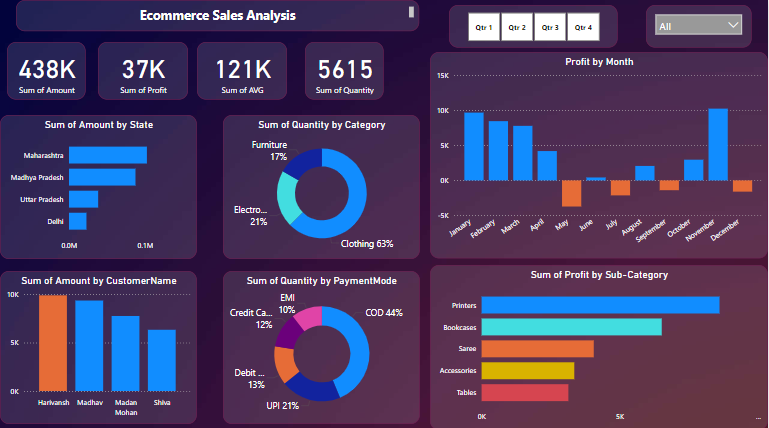

The dashboard page shown, as its layout file describes it:
{"tool":"powerbi","page":{"name":"Page 1","canvas":[1280,720],"ordinal":0},"visuals":[{"type":"textbox","box":[26.9,0,671.9,52.1],"z":0},{"type":"columnChart","title":"Profit by Month","fields":{"Category":["Orders.Order Date.Variation.Date Hierarchy.Month"],"Y":["Details.Profit"]},"box":[717.3,87.3,562.7,344.4],"z":1000},{"type":"barChart","fields":{"Category":["Details.Sub-Category"],"Y":["Details.Profit"]},"box":[717.3,441.8,562.7,275.5],"z":2000},{"type":"donutChart","fields":{"Category":["Details.Category"],"Y":["Details.Quantity"]},"box":[371.2,191.5,327.6,240.2],"z":3000},{"type":"donutChart","fields":{"Category":["Details.PaymentMode"],"Y":["Details.Quantity"]},"box":[371.2,451.9,327.6,255.3],"z":4000},{"type":"card","fields":{"Values":["Details.Amount"]},"box":[11.8,70.6,131,95.7],"z":5000},{"type":"card","fields":{"Values":["Details.Quantity"]},"box":[509,70.6,131,95.7],"z":6000},{"type":"card","fields":{"Values":["Details.Profit"]},"box":[162.9,70.6,149.5,95.7],"z":7000},{"type":"card","fields":{"Values":["Details.AVG"]},"box":[327.6,70.6,149.5,95.7],"z":8000},{"type":"barChart","fields":{"Category":["Orders.State"],"Y":["Details.Amount"]},"box":[0,191,328,240],"z":9000},{"type":"columnChart","fields":{"Category":["Orders.CustomerName"],"Y":["Details.Amount"]},"box":[0,452,328,255],"z":10000},{"type":"slicer","fields":{"Values":["Orders.Order Date.Variation.Date Hierarchy.Quarter"]},"box":[747.5,8.4,280.5,70.6],"z":10001},{"type":"slicer","fields":{"Values":["Orders.State"]},"box":[1076.7,8.4,176.4,70.6],"z":10002}]}

Visuals, with their boxes in screenshot pixels (x1, y1, x2, y2), scaled from the page's 1280x720 canvas onto the 769x428 screenshot:
textbox: x1=16, y1=0, x2=420, y2=31
"Profit by Month" columnChart: x1=431, y1=52, x2=768, y2=257
barChart - Details.Sub-Category x Details.Profit: x1=431, y1=263, x2=768, y2=426
donutChart - Details.Category x Details.Quantity: x1=223, y1=114, x2=420, y2=257
donutChart - Details.PaymentMode x Details.Quantity: x1=223, y1=269, x2=420, y2=420
card - Details.Amount: x1=7, y1=42, x2=86, y2=99
card - Details.Quantity: x1=306, y1=42, x2=384, y2=99
card - Details.Profit: x1=98, y1=42, x2=188, y2=99
card - Details.AVG: x1=197, y1=42, x2=287, y2=99
barChart - Orders.State x Details.Amount: x1=0, y1=114, x2=197, y2=256
columnChart - Orders.CustomerName x Details.Amount: x1=0, y1=269, x2=197, y2=420
slicer - Orders.Order Date.Variation.Date Hierarchy.Quarter: x1=449, y1=5, x2=618, y2=47
slicer - Orders.State: x1=647, y1=5, x2=753, y2=47
